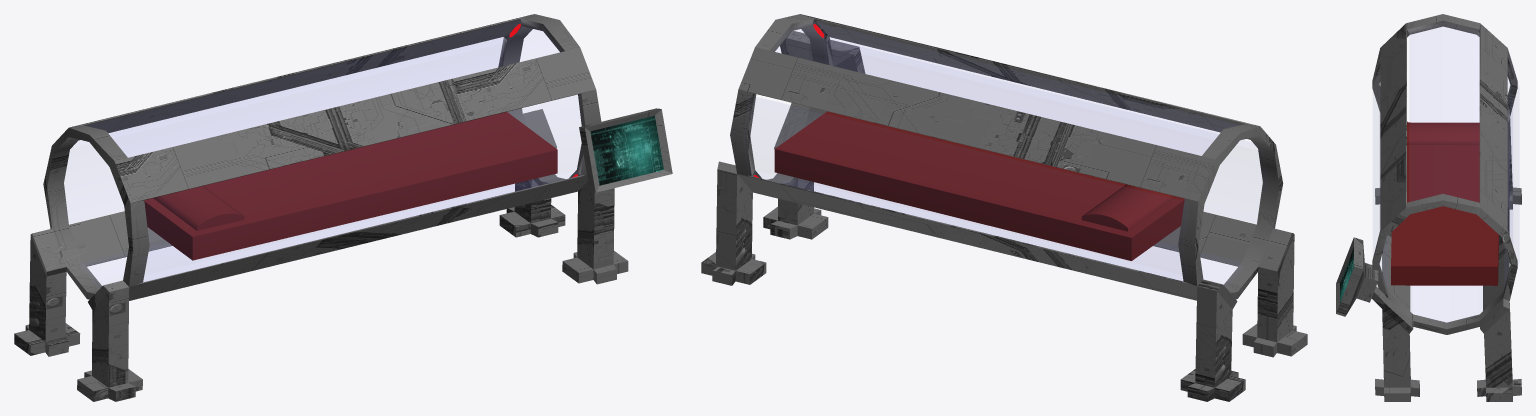
File: vacuum_chamber.glb
The picture shows the model from 3 angles, left to right: view 1: azimuth 30°, elevation 25°; view 2: azimuth 150°, elevation 25°; view 3: azimuth 270°, elevation 25°; orthographic projection. The views are drawn at different scales.
Visible parts, largest first — view 1: MaterialFBXASC032FBXASC0352142150880, MaterialFBXASC032FBXASC0352142150880_ncl1_1 (×2), SG-Window, MaterialFBXASC032FBXASC0352142155070; view 2: MaterialFBXASC032FBXASC0352142150880, MaterialFBXASC032FBXASC0352142150880_ncl1_1 (×2), SG-Window; view 3: MaterialFBXASC032FBXASC0352142150880, MaterialFBXASC032FBXASC0352142150880_ncl1_1 (×2), SG-Window, MaterialFBXASC032FBXASC0352142155070.
Boxes of the visible parts, left/top/right/bottom form: MaterialFBXASC032FBXASC0352142150880: left=14, top=14, right=672, bottom=401; MaterialFBXASC032FBXASC0352142150880_ncl1_1 (×2): left=144, top=112, right=557, bottom=260; SG-Window: left=109, top=37, right=549, bottom=281; MaterialFBXASC032FBXASC0352142155070: left=590, top=115, right=663, bottom=185; MaterialFBXASC032FBXASC0352142150880: left=701, top=14, right=1307, bottom=401; MaterialFBXASC032FBXASC0352142150880_ncl1_1 (×2): left=774, top=111, right=1184, bottom=260; SG-Window: left=782, top=39, right=1218, bottom=280; MaterialFBXASC032FBXASC0352142150880: left=1336, top=14, right=1521, bottom=401; MaterialFBXASC032FBXASC0352142150880_ncl1_1 (×2): left=1391, top=122, right=1499, bottom=285; SG-Window: left=1379, top=88, right=1512, bottom=243; MaterialFBXASC032FBXASC0352142155070: left=1340, top=247, right=1353, bottom=302.
Size of the model in its own units: 17.82 by 7.22 by 6.43.
5 materials, 2 textured.
